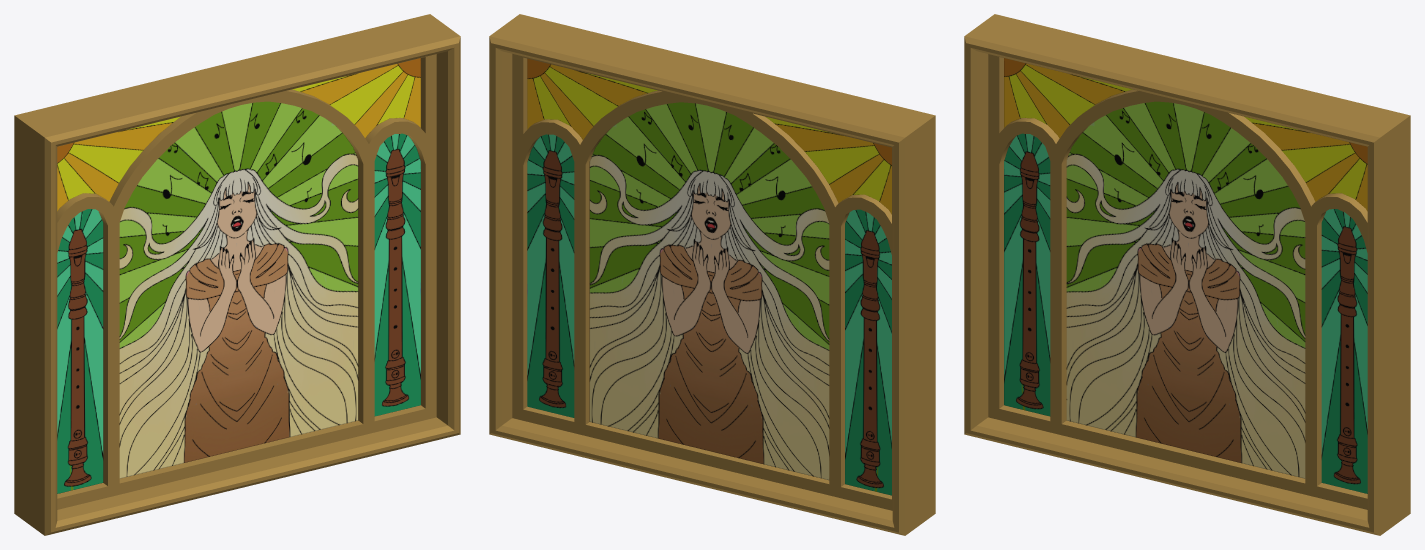
The model's file is newDoor.fbx.
3 views of the same model, side by side, from view 1: azimuth 30°, elevation 25°; view 2: azimuth 150°, elevation 25°; view 3: azimuth 330°, elevation 25° (orthographic).
Parts seen in each view (by area): view 1: Glass, Frame, Frame2; view 2: Glass, Frame, Frame2; view 3: Glass, Frame, Frame2.
Part boxes in pixels (bbox=[...]): Glass: bbox=[57, 58, 420, 493]; Frame: bbox=[14, 14, 460, 535]; Frame2: bbox=[57, 54, 436, 509]; Glass: bbox=[527, 58, 891, 495]; Frame: bbox=[489, 14, 935, 535]; Frame2: bbox=[512, 54, 892, 510]; Glass: bbox=[1004, 58, 1367, 493]; Frame: bbox=[964, 14, 1410, 535]; Frame2: bbox=[988, 54, 1367, 509].
Size of the model in its own units: 295 by 270 by 43.08.
